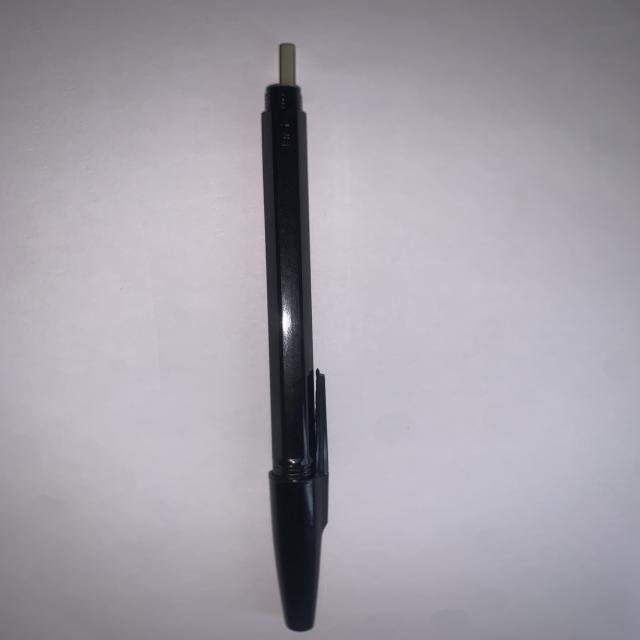Pulpen: (243, 35, 363, 640)
